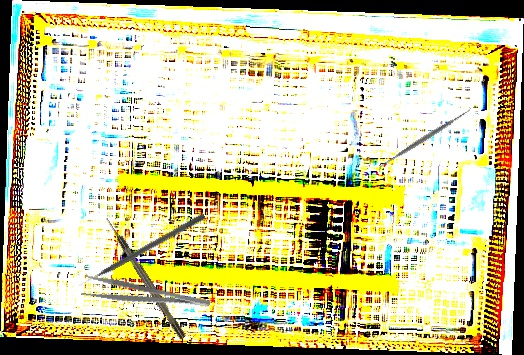Dressing Forceps: (80, 272, 212, 321)
Hook Surgical: (103, 215, 187, 341)
Pusher: (77, 211, 206, 289)
Spatula Surgical: (374, 104, 475, 174)
